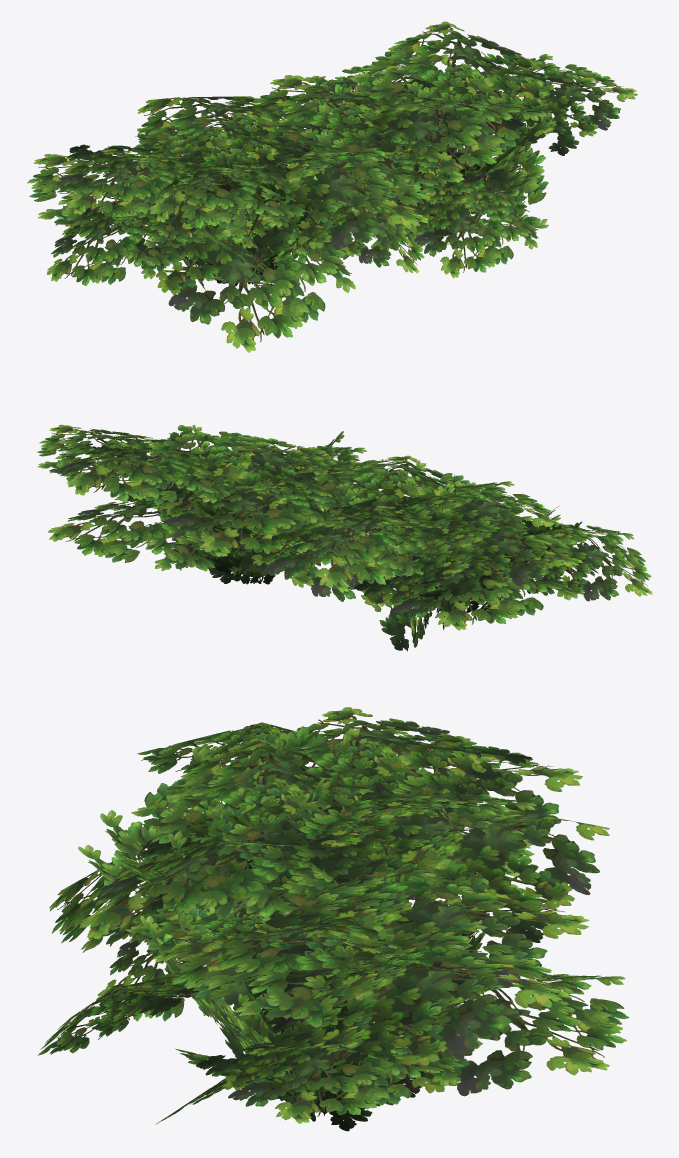
Rendered from guanmu_024.FBX.
3 renders of one model, top to bottom at view 1: azimuth 30°, elevation 25°; view 2: azimuth 150°, elevation 25°; view 3: azimuth 270°, elevation 25°, orthographic. The views are drawn at different scales.
Visible parts, largest first — view 1: guanmu_024_02; view 2: guanmu_024_02; view 3: guanmu_024_02.
Boxes of the visible parts, x1,y1,x2,y2 form: guanmu_024_02: [27, 21, 637, 352]; guanmu_024_02: [37, 424, 652, 651]; guanmu_024_02: [37, 707, 629, 1131].
Bounding box in the file's own units: 2.01 × 0.5383 × 1.18.
